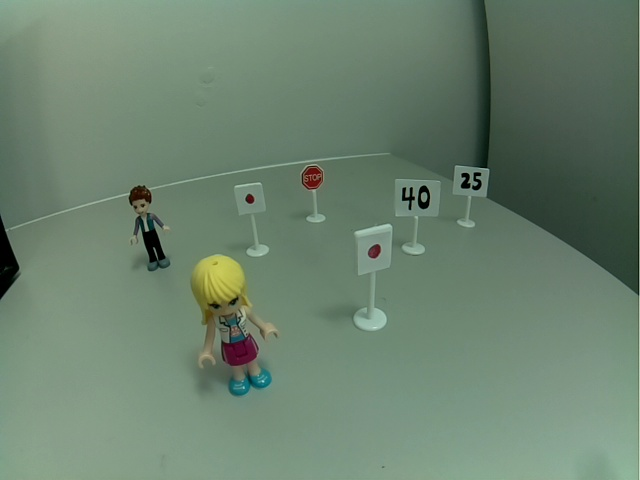people: (189, 255, 281, 397), (122, 182, 175, 273)
red light: (353, 224, 393, 276), (232, 181, 268, 217)
speed 25: (452, 163, 491, 198)
speed 40: (394, 176, 441, 218)
stop: (300, 162, 325, 192)
